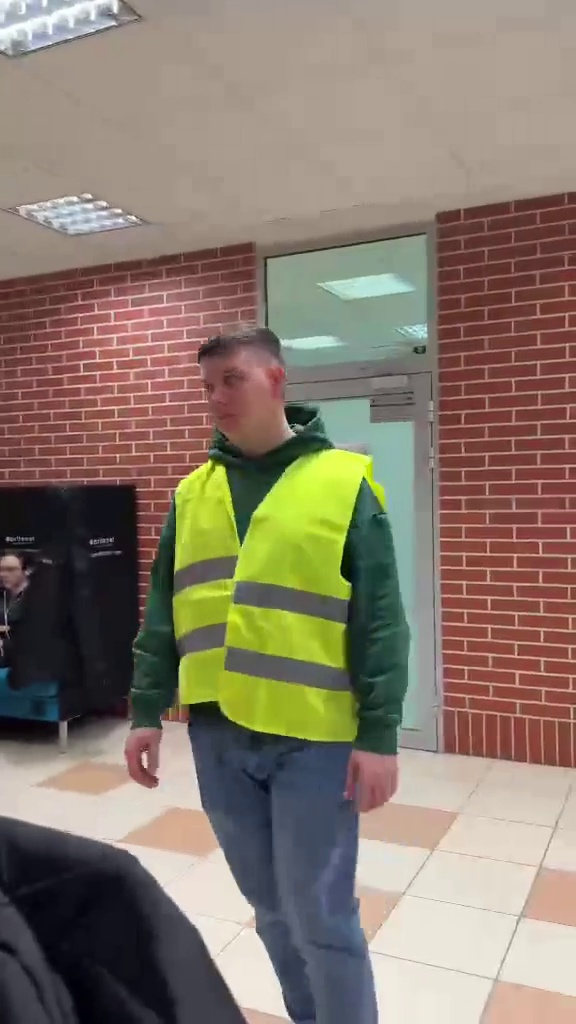vest: (124, 324, 417, 1024)
